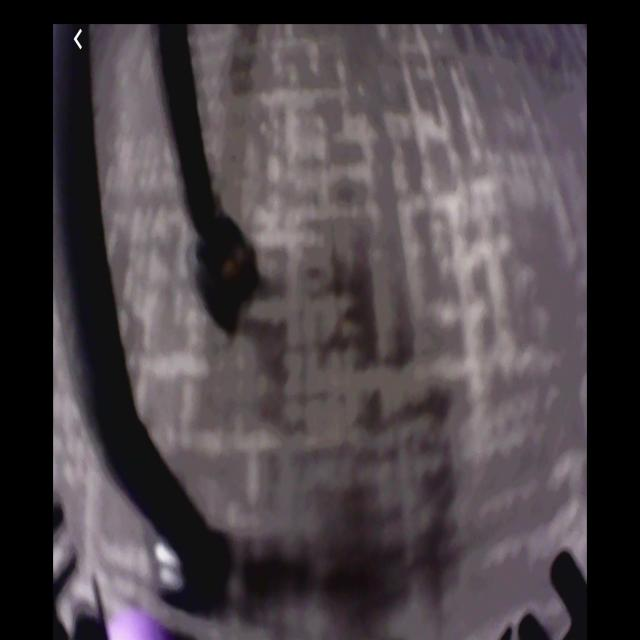ball: (105, 606, 165, 640)
